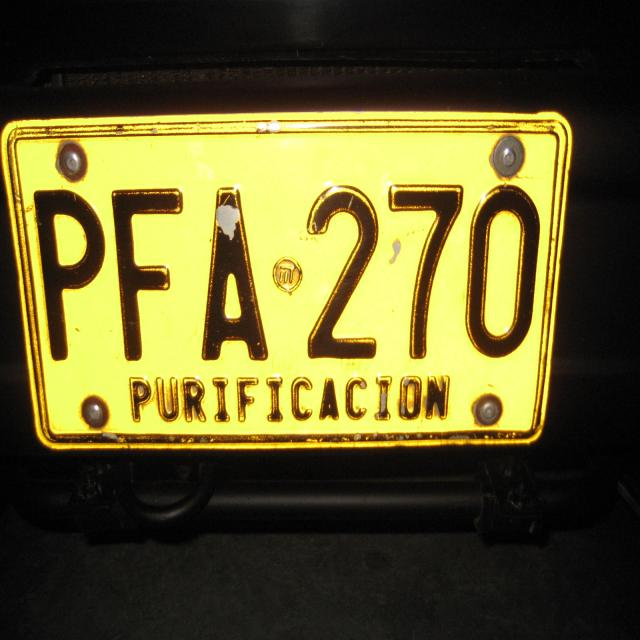placa: (1, 102, 577, 462)
